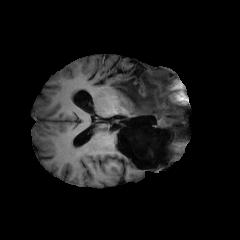glioma: (100, 71, 180, 150)
